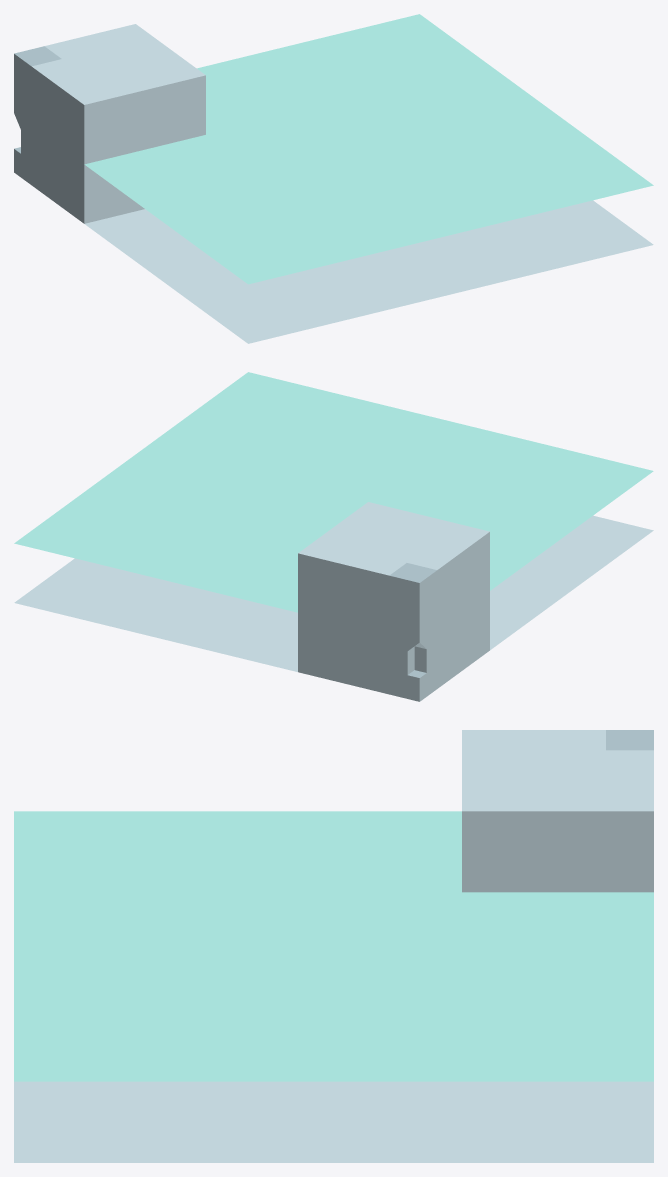
File: fountainCornerInnerSquare.fbx
3 views of the same model, one above another, from view 1: azimuth 30°, elevation 25°; view 2: azimuth 150°, elevation 25°; view 3: azimuth 270°, elevation 25° (orthographic). The views are drawn at different scales.
Visible parts, largest first — view 1: fountainCornerInnerSquare.001, fountainCornerInnerSquare; view 2: fountainCornerInnerSquare.001, fountainCornerInnerSquare; view 3: fountainCornerInnerSquare.001, fountainCornerInnerSquare.
Boxes of the visible parts, x1,y1,x2,y2 form: fountainCornerInnerSquare.001: (84, 14, 653, 284); fountainCornerInnerSquare: (14, 24, 653, 343); fountainCornerInnerSquare.001: (14, 372, 653, 612); fountainCornerInnerSquare: (14, 502, 653, 701); fountainCornerInnerSquare.001: (14, 811, 653, 1081); fountainCornerInnerSquare: (14, 730, 653, 1162).
Size of the model in its own units: 100 by 28 by 100.
